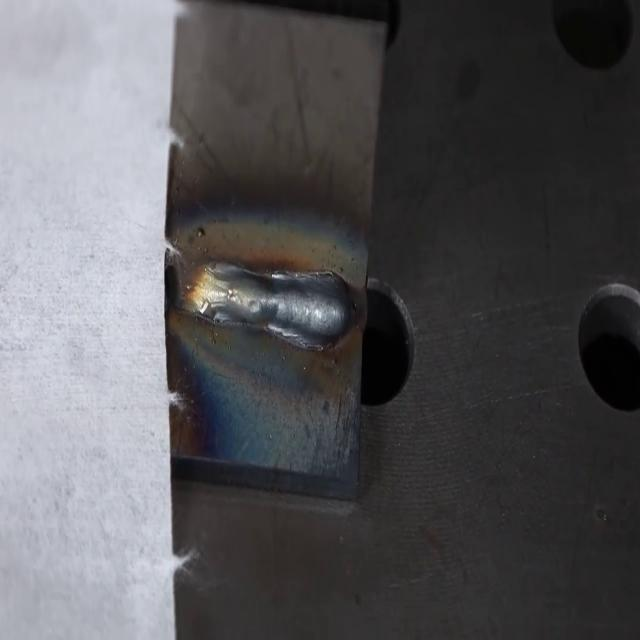Bad Weld: (188, 253, 362, 355)
